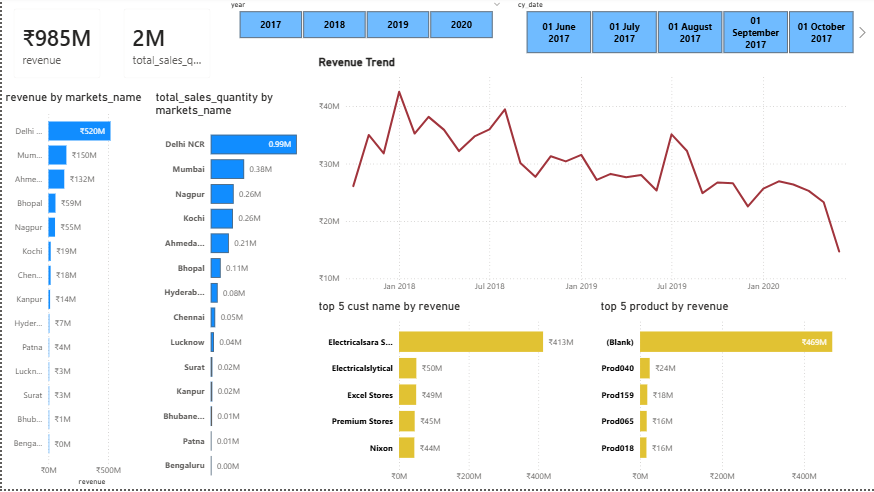

The dashboard page shown, as its layout file describes it:
{"tool":"powerbi","page":{"name":"Atliq Hardware","canvas":[1280,720],"ordinal":0},"visuals":[{"type":"cardVisual","fields":{"Data":["sales customers.revenue"]},"box":[0,0,161.3,136.1],"z":0},{"type":"cardVisual","fields":{"Data":["sales customers.total_sales_quantity"]},"box":[161.3,0,161.3,136.1],"z":1000},{"type":"barChart","fields":{"Y":["sales customers.revenue"],"Category":["sales markets.markets_name"]},"box":[0,136.1,219.5,583.9],"z":2000},{"type":"barChart","fields":{"Y":["sales customers.total_sales_quantity"],"Category":["sales markets.markets_name"]},"box":[219.5,136.1,238.5,583.9],"z":3000},{"type":"barChart","title":"top 5 cust name by revenue","fields":{"Y":["sales customers.revenue"],"Category":["sales customers.custmer_name"]},"box":[458,442,409.8,278],"z":4000},{"type":"barChart","title":"top 5 product by revenue","fields":{"Category":["sales products.product_code"],"Y":["sales customers.revenue"]},"box":[870.7,442,409.8,278],"z":5000},{"type":"slicer","fields":{"Values":["sales date.year"]},"box":[322,0,420,67.3],"z":6000},{"type":"slicer","fields":{"Values":["sales date.cy_date"]},"box":[742,0,528.3,84.9],"z":7000},{"type":"lineChart","title":"Revenue Trend","fields":{"Y":["sales customers.revenue"],"Category":["sales date.cy_date.Variation.Date Hierarchy.Year","sales date.cy_date.Variation.Date Hierarchy.Quarter","sales date.cy_date.Variation.Date Hierarchy.Month","sales date.cy_date.Variation.Date Hierarchy.Day"]},"box":[458,84.9,796.1,357.1],"z":8000}]}

Visuals, with their boxes in screenshot pixels (x1, y1, x2, y2), scaled from the page's 1280x720 canvas onto the 874x492 screenshot:
cardVisual - sales customers.revenue: bbox(0, 0, 110, 93)
cardVisual - sales customers.total_sales_quantity: bbox(110, 0, 220, 93)
barChart - sales customers.revenue x sales markets.markets_name: bbox(0, 93, 150, 491)
barChart - sales customers.total_sales_quantity x sales markets.markets_name: bbox(150, 93, 313, 491)
"top 5 cust name by revenue" barChart: bbox(313, 302, 593, 491)
"top 5 product by revenue" barChart: bbox(595, 302, 873, 491)
slicer - sales date.year: bbox(220, 0, 507, 46)
slicer - sales date.cy_date: bbox(507, 0, 867, 58)
"Revenue Trend" lineChart: bbox(313, 58, 856, 302)
